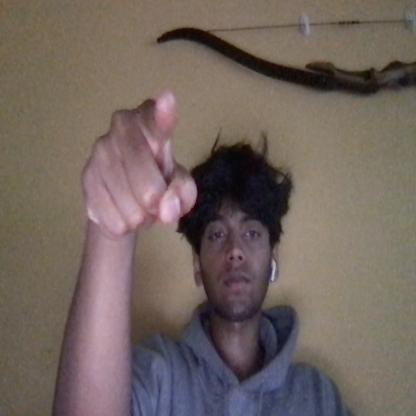finger_point: (137, 71, 194, 139)
